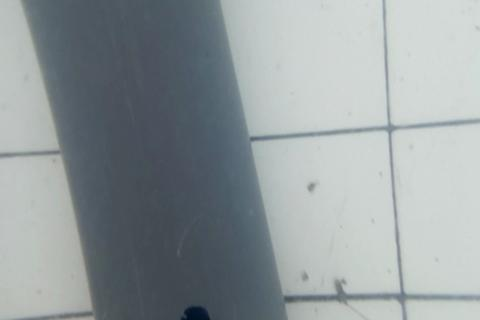kebocoran: (180, 302, 212, 320)
